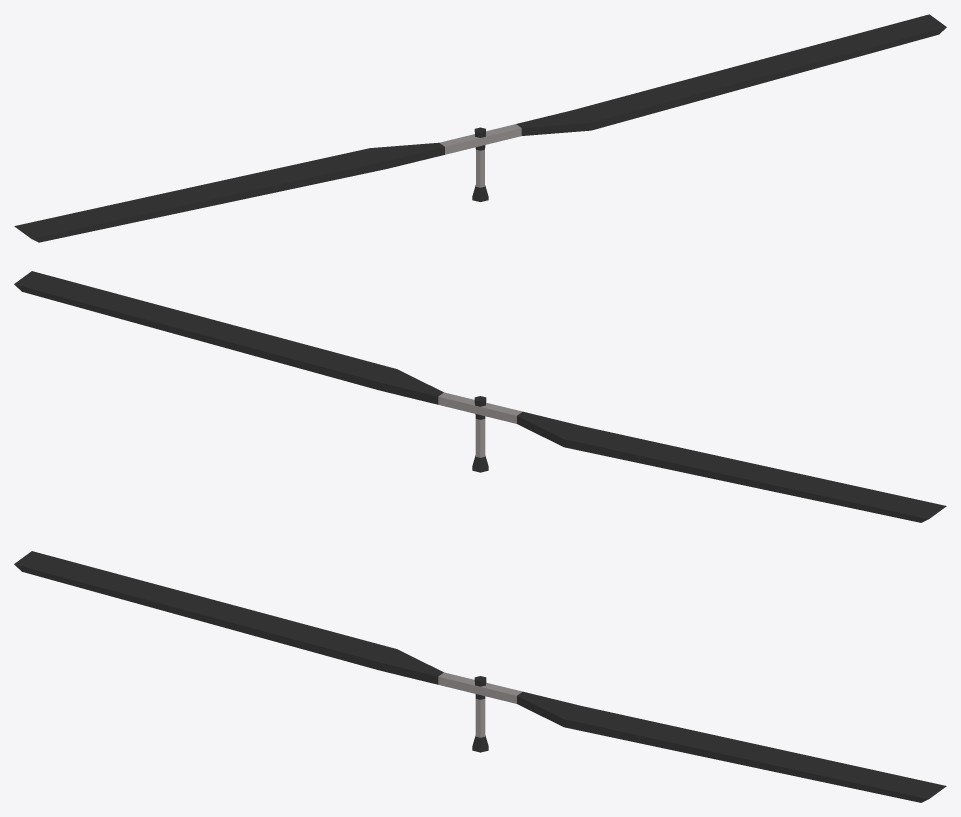
File: helicopter-propeller-main.glb
3 views of the same model, one above another, from view 1: azimuth 30°, elevation 25°; view 2: azimuth 150°, elevation 25°; view 3: azimuth 330°, elevation 25° (orthographic). The views are drawn at different scales.
Visible parts, largest first — view 1: helicopter-propeller-main; view 2: helicopter-propeller-main; view 3: helicopter-propeller-main.
Boxes of the visible parts, left/top/right/bottom form: helicopter-propeller-main: left=14, top=14, right=946, bottom=242; helicopter-propeller-main: left=14, top=271, right=946, bottom=522; helicopter-propeller-main: left=14, top=551, right=946, bottom=802.
Size of the model in its own units: 10.16 by 0.7698 by 0.5702.
Materials: 1 (1 with a texture image).
